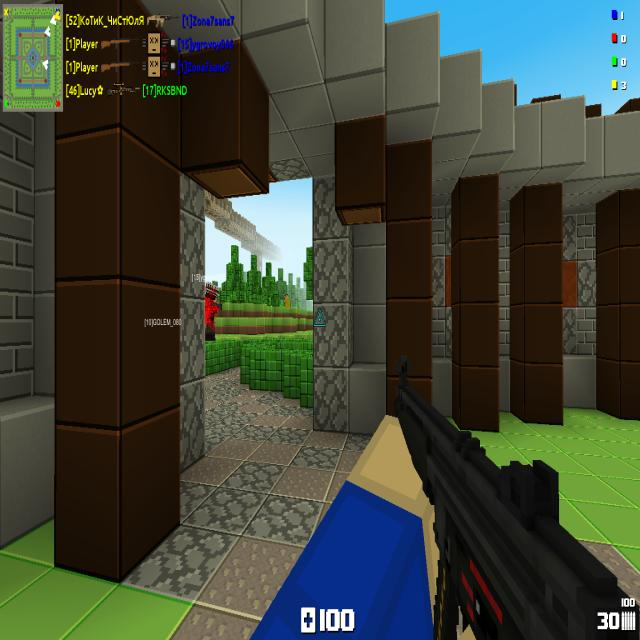enemy: (284, 294, 290, 308)
